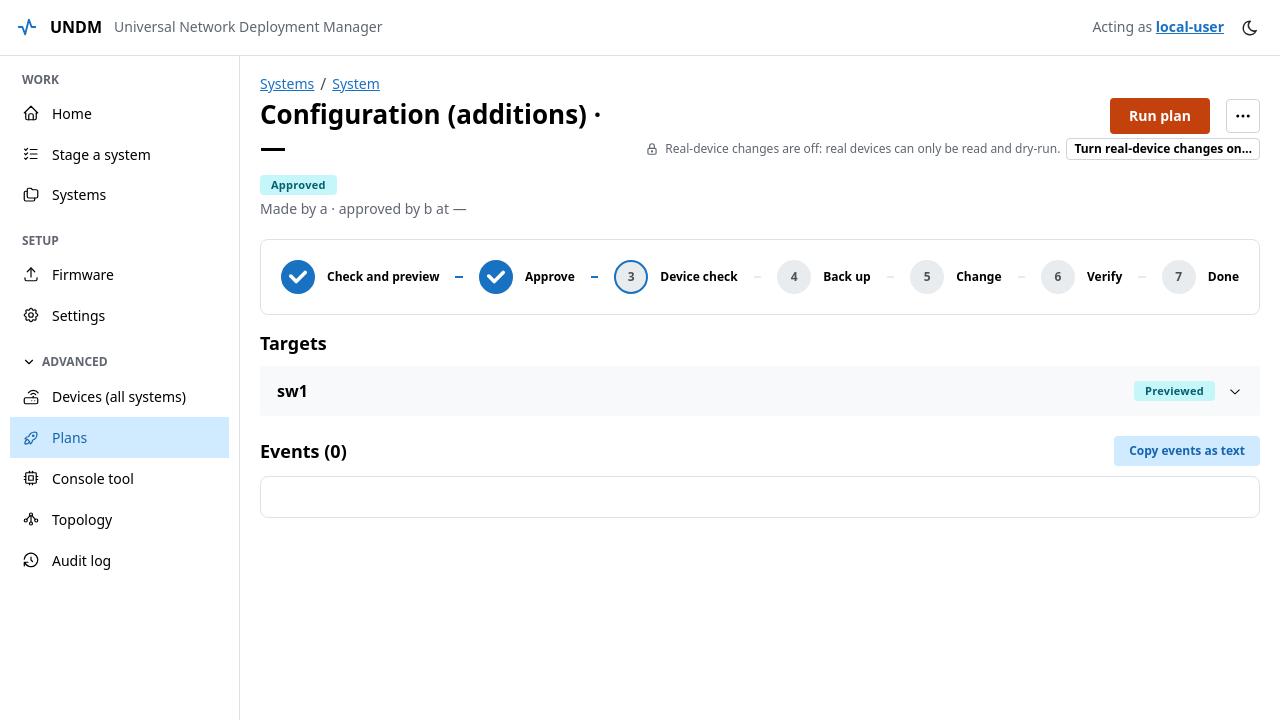
application shell › the switch state is shown next to Run for a real device, and not for a simulated one (D-089)
This screenshot has width=1280, height=720.
Later steps or results of the test are not shown.
Expected: the text "Real-device changes are off: real devices can only be read" is shown, left=665, top=140, right=1060, bottom=157
D-121: it can be turned on right here, with the same confirmation as in Settings.
Click the button "Turn real-device changes on…". click: (1163, 149)
box: left=1066, top=138, right=1260, bottom=160
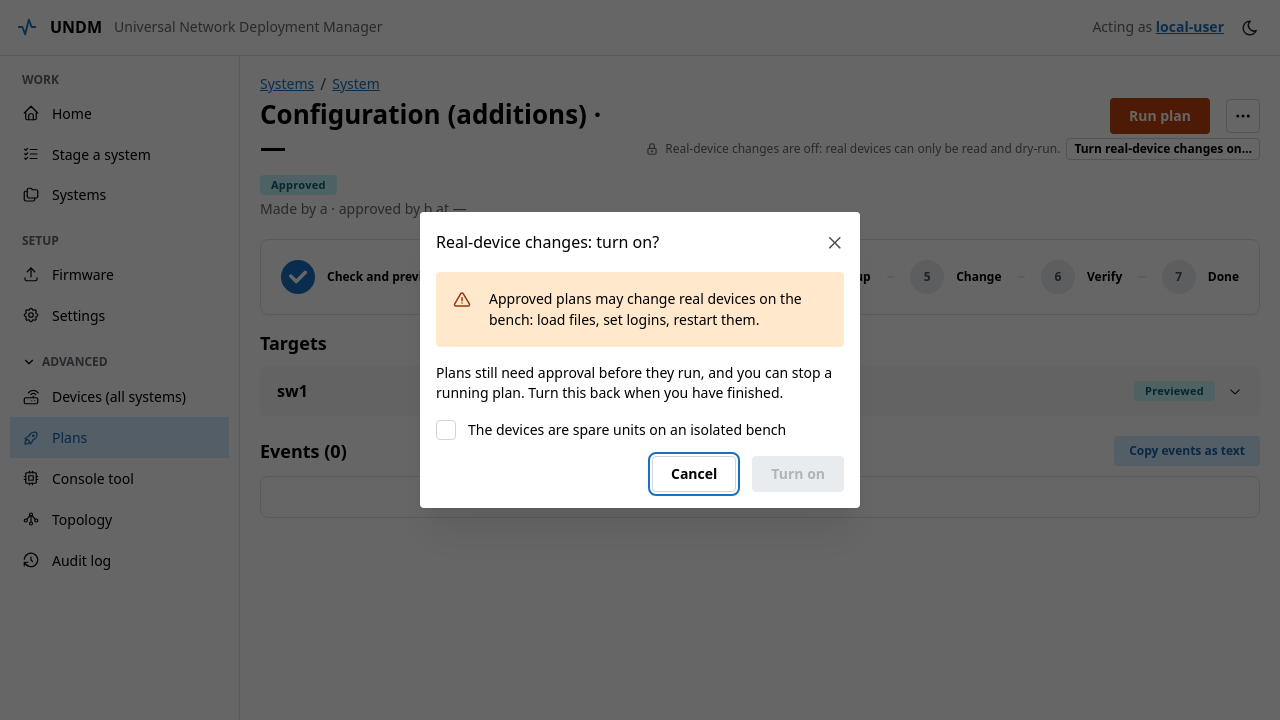
Now the button "Turn on" is disabled, box left=752, top=456, right=844, bottom=492
Now the button "Cancel" is shown, box left=652, top=456, right=736, bottom=492
